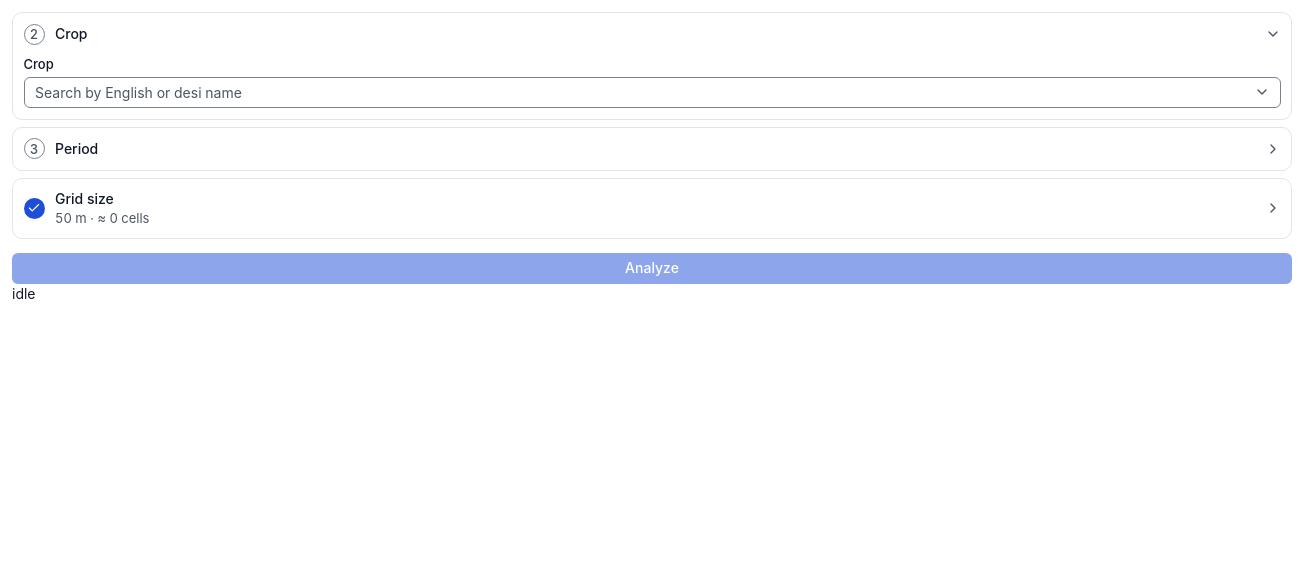
AnalysisSetupPanel › locks the fields while running
Type "Wheat" into the dropdown labelled "Crop" at (652, 92), box [24,76,1280,108]
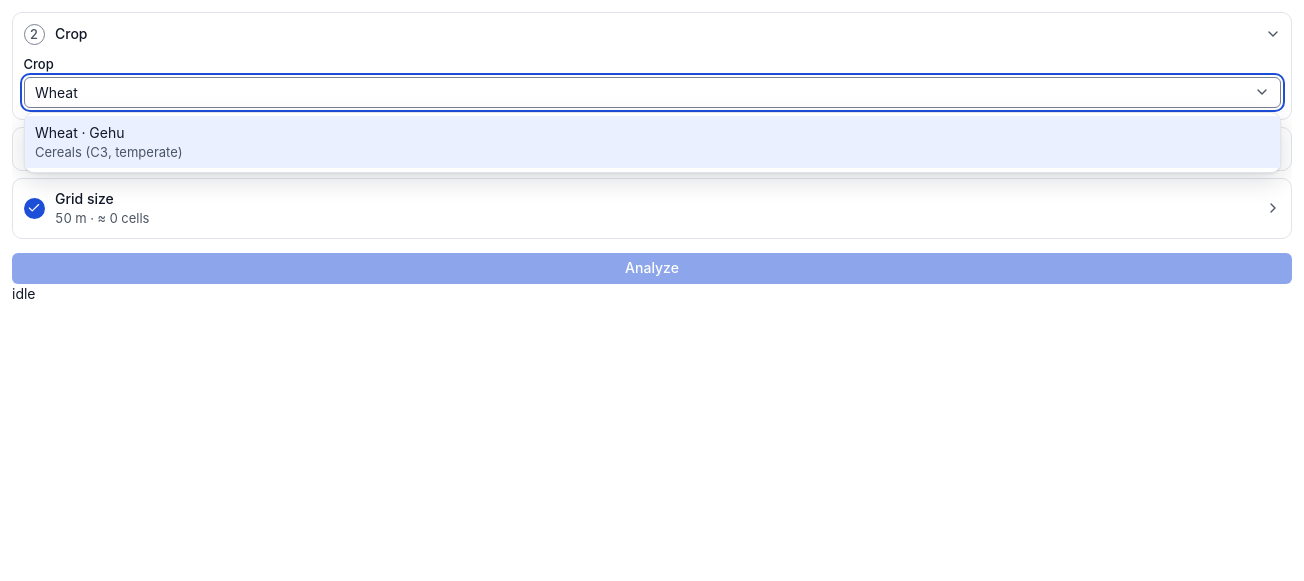
Click the option "Wheat · Gehu Cereals (C3, temperate)" at (80, 132), box [24,116,1280,168]
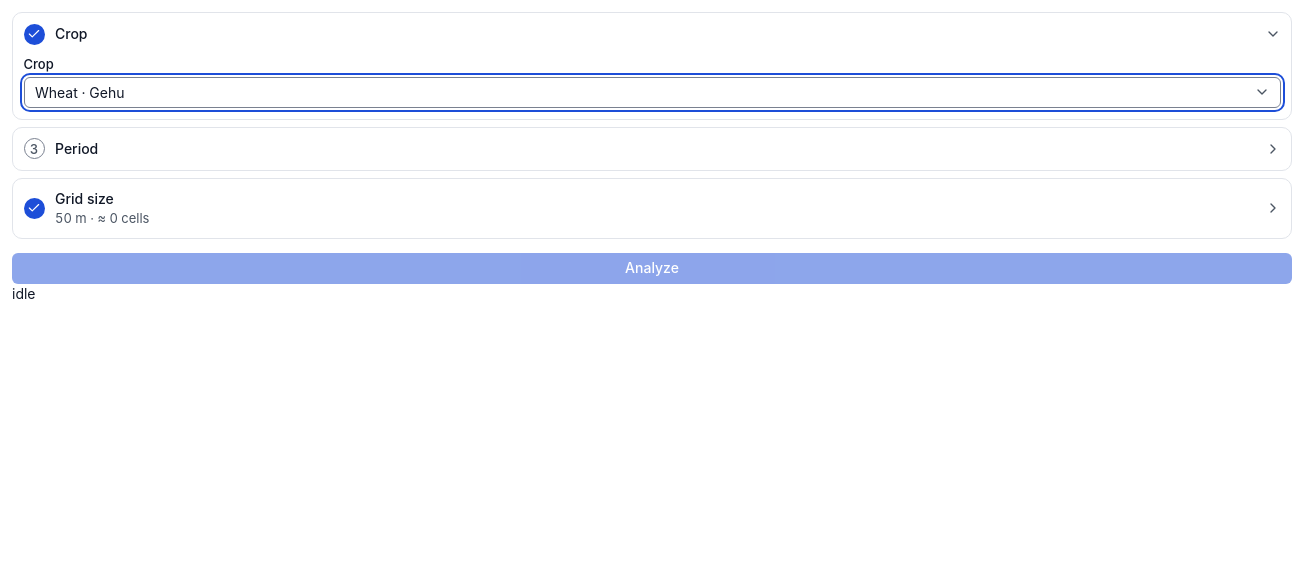
Click the button "3 Period" at (78, 147), box [13,128,1291,170]
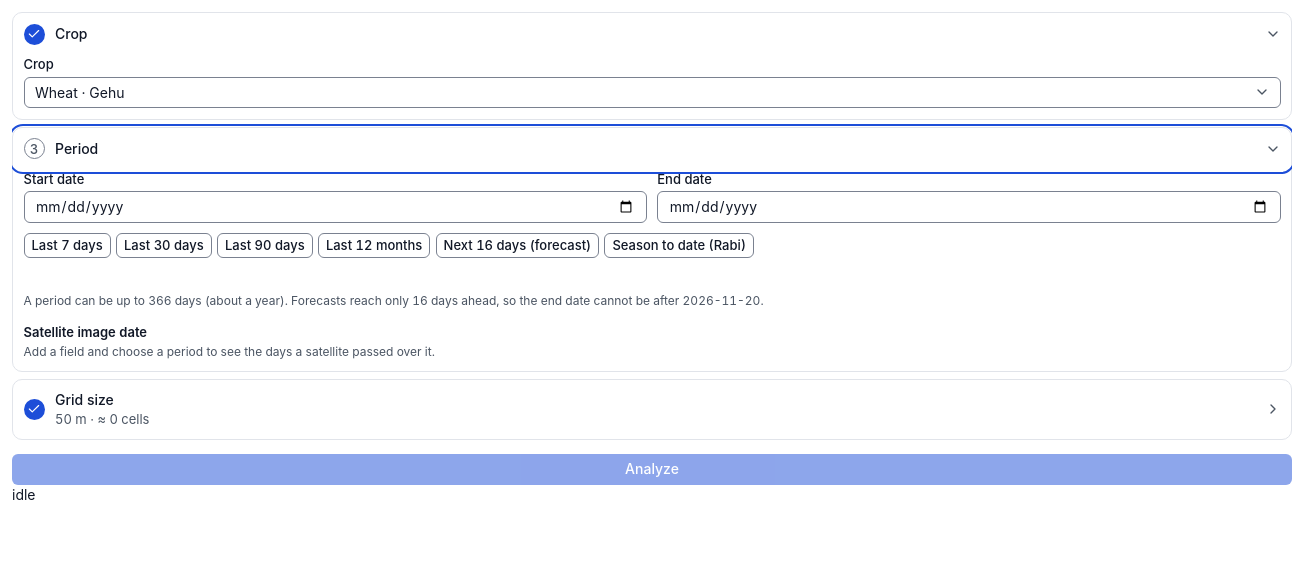
Click the button "Last 30 days" at (164, 245), box [116,233,212,258]
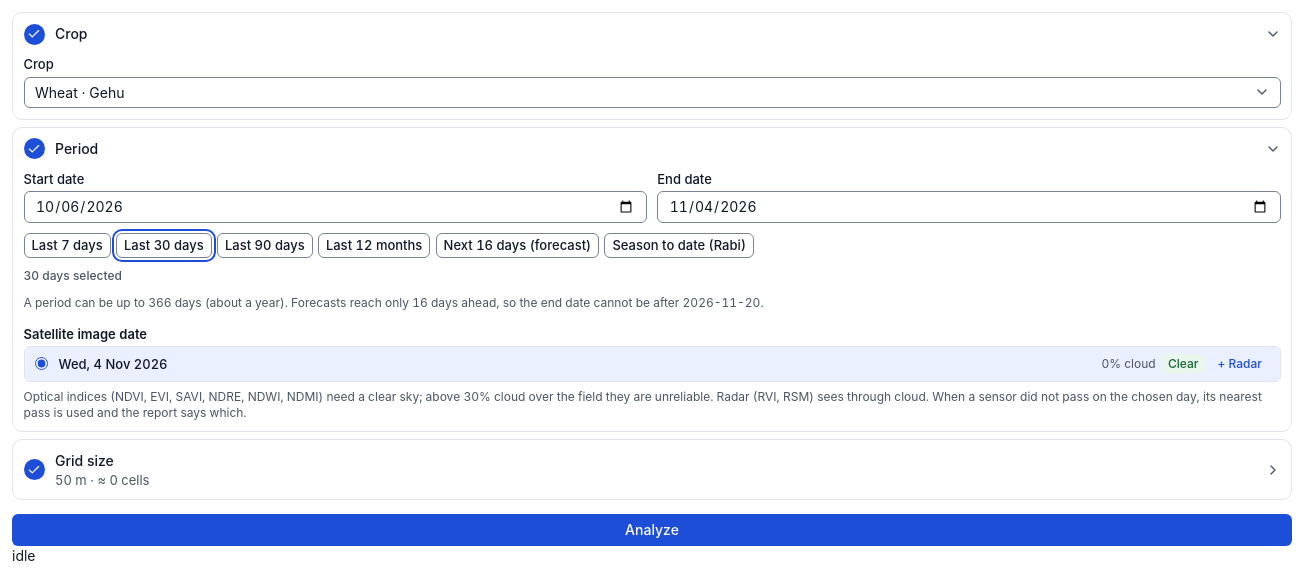
Result: the button "Analyze" does not have attribute aria-disabled
Click the button "Analyze" at (652, 530), box [12,514,1292,546]
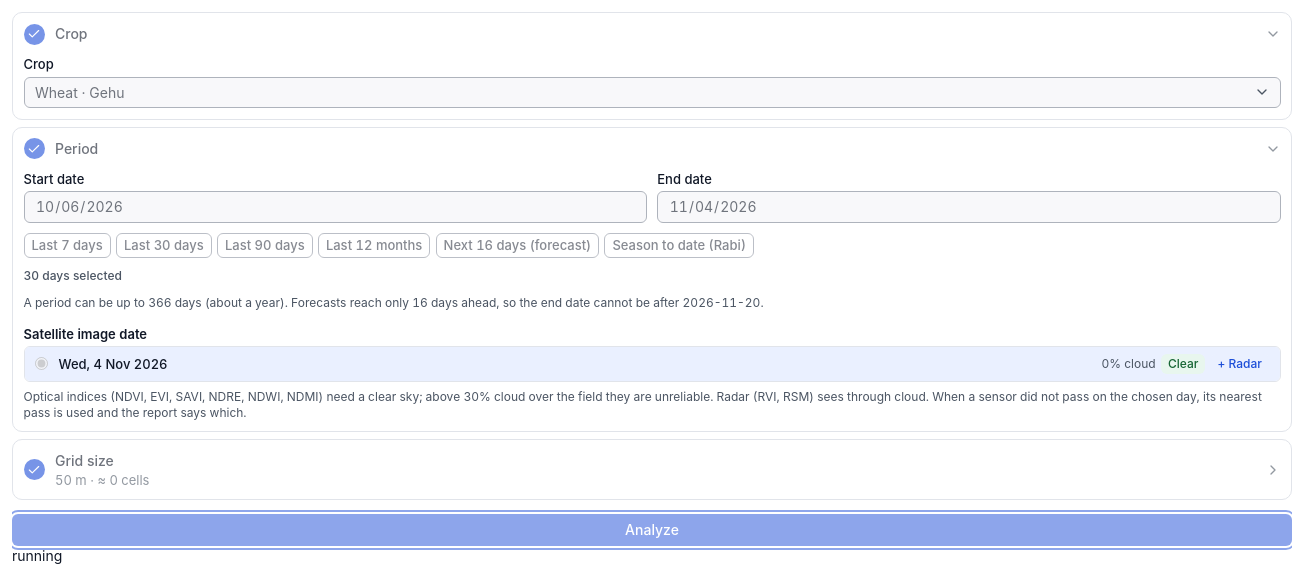
Result: the dropdown labelled "Crop" is disabled at [24,76,1280,108]
